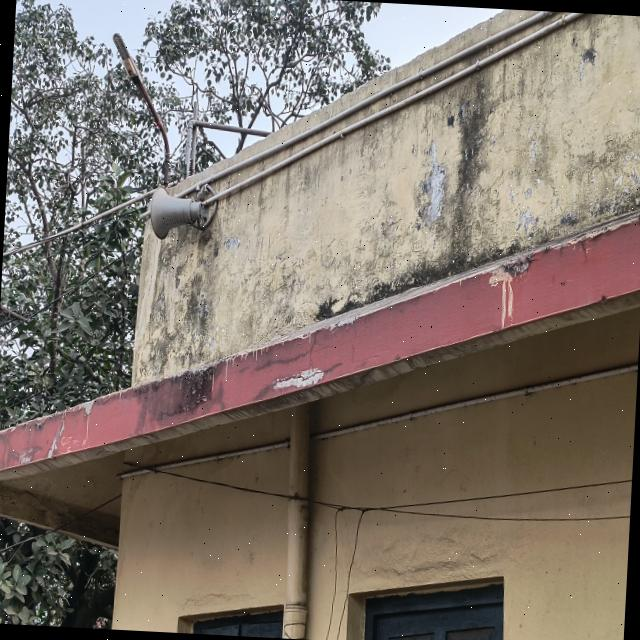Crack: (273, 330, 343, 384), (358, 367, 379, 388)
Moss growth due to damping: (314, 64, 549, 321), (130, 203, 222, 427)
Paint Peeling: (561, 149, 640, 228), (419, 141, 446, 223), (273, 368, 324, 388), (516, 205, 541, 233), (527, 125, 537, 167), (226, 237, 241, 257)
